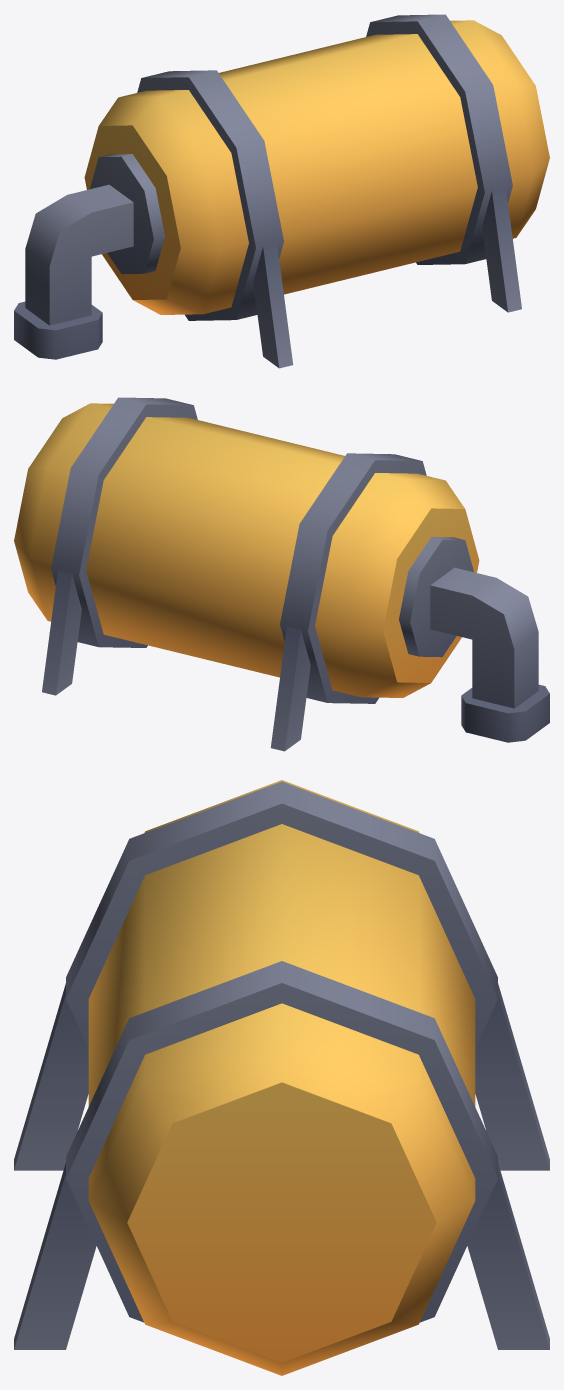
Rendered from detail-tank_lev1.glb.
3 renders of one model, top to bottom at view 1: azimuth 30°, elevation 25°; view 2: azimuth 150°, elevation 25°; view 3: azimuth 270°, elevation 25°, orthographic. The views are drawn at different scales.
Visible parts, largest first — view 1: detail-tank_lev1; view 2: detail-tank_lev1; view 3: detail-tank_lev1.
Boxes of the visible parts, x1,y1,x2,y2 form: detail-tank_lev1: (14,14,549,368); detail-tank_lev1: (14,397,549,751); detail-tank_lev1: (14,780,549,1375).
Bounding box in the file's own units: 0.848 × 0.4153 × 0.5153.
Materials: 1 (1 with a texture image).
